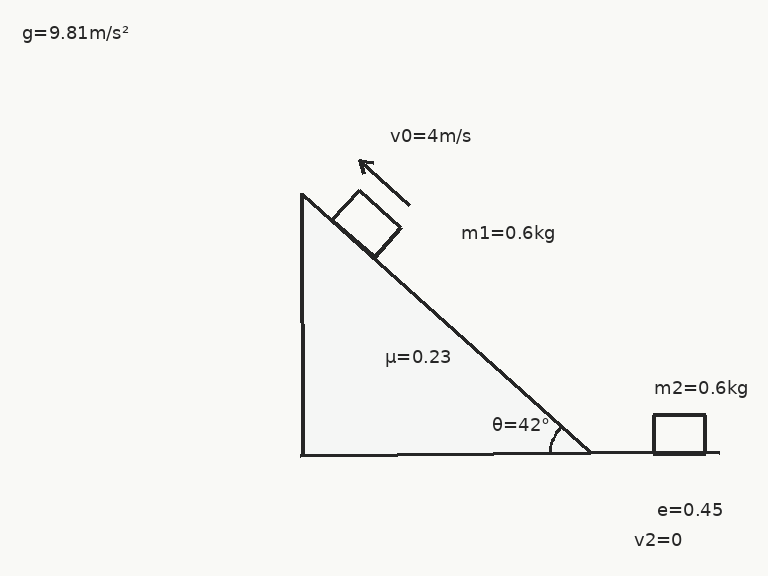block: (330, 188, 402, 260), (651, 414, 707, 455)
ramp: (300, 191, 592, 455)
